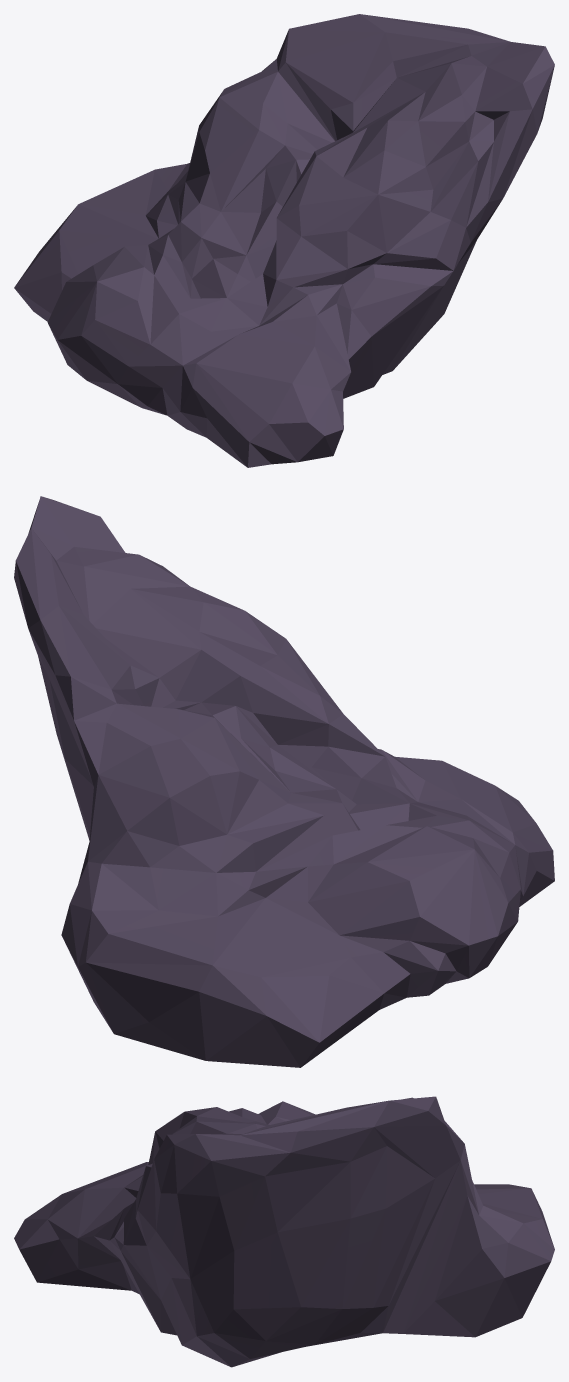
File: SM_boulder_01.fbx
The picture shows the model from 3 angles, top to bottom: view 1: azimuth 30°, elevation 25°; view 2: azimuth 150°, elevation 25°; view 3: azimuth 270°, elevation 25°; orthographic projection. The views are drawn at different scales.
Visible parts, largest first — view 1: boulder_01; view 2: boulder_01; view 3: boulder_01.
Boxes of the visible parts, left/top/right/bottom form: boulder_01: left=14, top=14, right=554, bottom=467; boulder_01: left=14, top=496, right=554, bottom=1067; boulder_01: left=14, top=1096, right=554, bottom=1367.
Size of the model in its own units: 562 by 358 by 579.
